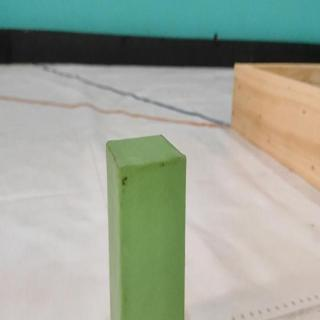greenbox: (104, 132, 189, 320)
